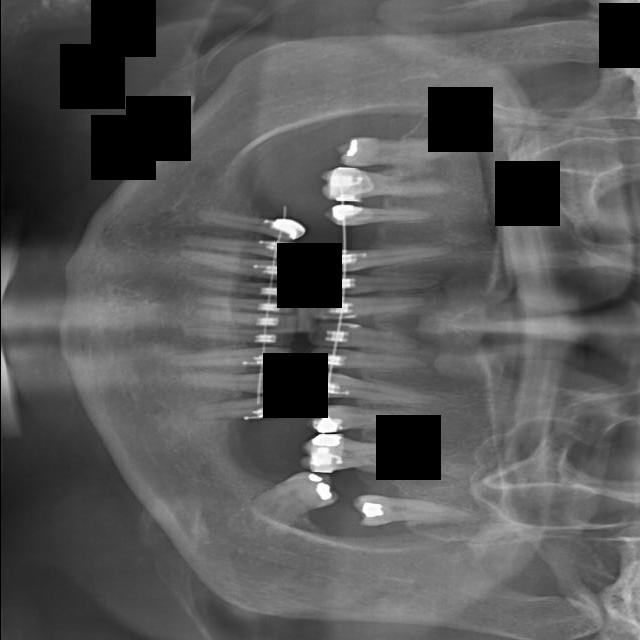AGS Medikal Implant: (313, 349, 413, 371)
AMerOss Implant: (309, 370, 421, 402)
Anthogyr Implant: (316, 401, 427, 432)
Bicon Implant: (292, 430, 438, 485)
BioLife Implant: (364, 498, 478, 525)
Biomet 3i Implant: (244, 458, 337, 537)
Caries: (338, 139, 447, 166)
Composite filling: (203, 397, 284, 422)
Cowellmedi Implant: (187, 371, 279, 398)
Crown: (172, 347, 282, 366)
DENTSPLY Implant: (194, 320, 278, 349)
Dentatus Implant: (204, 312, 285, 332)
Dentis Implant: (194, 296, 292, 316)
Dentium Implant: (191, 275, 292, 300)
Euroteknika Implant: (186, 253, 292, 280)
Filling: (195, 235, 294, 258)
Frontier Implant: (204, 211, 304, 238)
Hiossen Implant: (325, 169, 449, 206)
MIS Implant: (326, 201, 425, 231)
Maxilla: (316, 236, 442, 274)
Megagen Implant: (318, 271, 439, 294)
Neodent Implant: (325, 295, 440, 324)
Neoss Implant: (321, 320, 422, 364)
